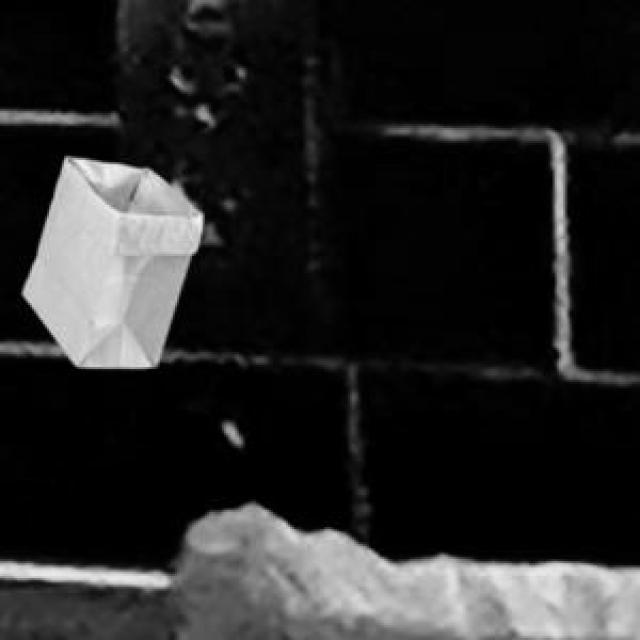paper: (19, 154, 198, 363)
